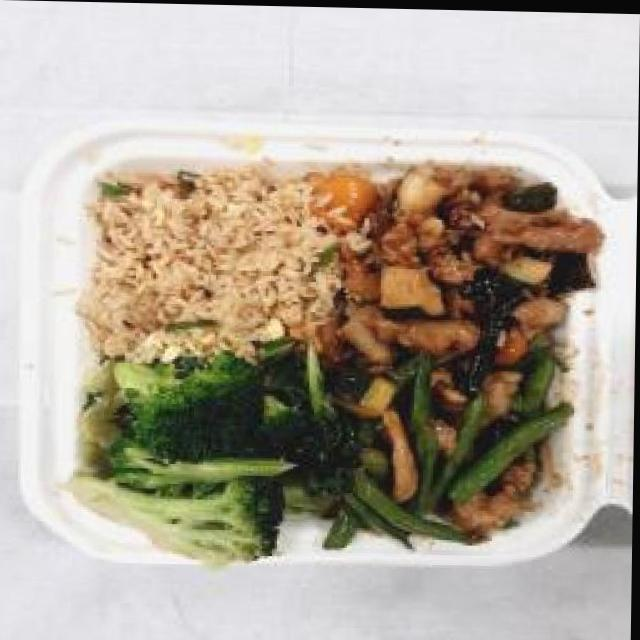Fried Rice: (76, 164, 331, 359)
Kung Pao Chicken: (316, 151, 598, 373)
String Bean Chicken Breast: (312, 344, 579, 553)
Super Greens: (76, 346, 356, 561)
